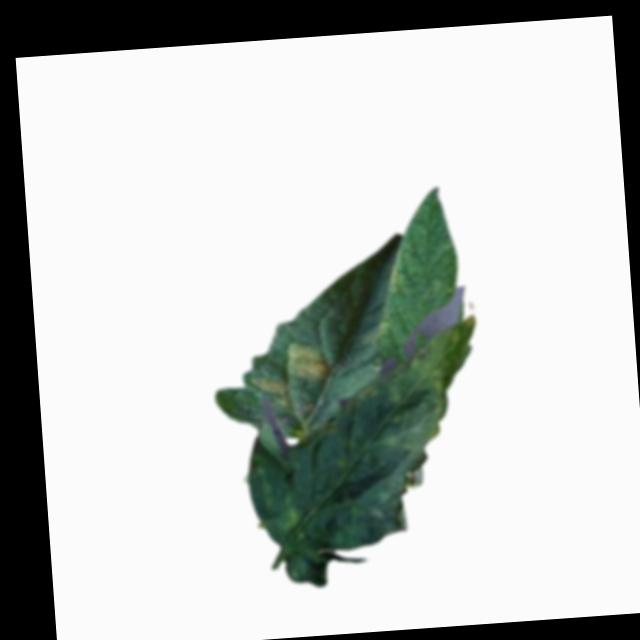Leaf_Mold: (237, 312, 501, 593), (246, 369, 294, 411), (284, 341, 328, 384), (383, 245, 409, 295)
